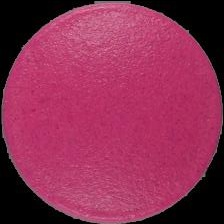0781-1486: (0, 0, 224, 224)
